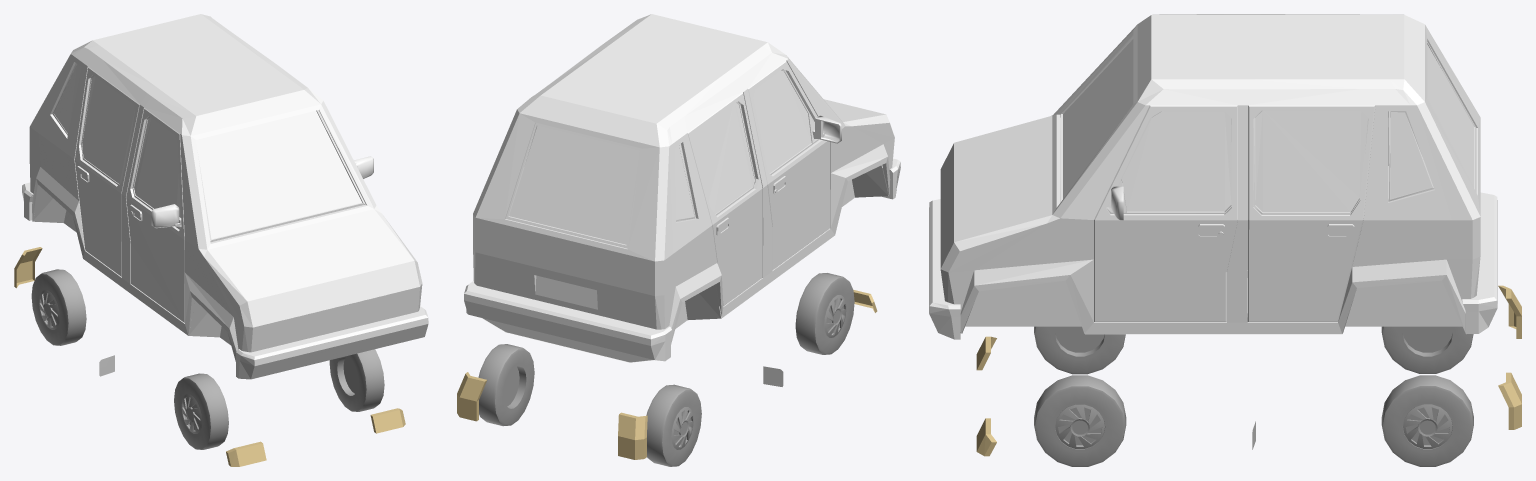
Rendered from car.glb.
3 renders of one model, left to right at view 1: azimuth 30°, elevation 25°; view 2: azimuth 150°, elevation 25°; view 3: azimuth 270°, elevation 25°, orthographic. The views are drawn at different scales.
Visible parts, largest first — view 1: CarChasis, CarWindows, CarInterior, CarWheels, CarLights; view 2: CarChasis, CarWindows, CarInterior, CarWheels, CarLights; view 3: CarChasis, CarWindows, CarWheels, CarInterior, CarLights.
Part boxes in pixels (bbox=[...]): CarChasis: bbox=[29, 14, 422, 361]; CarWindows: bbox=[54, 64, 361, 239]; CarInterior: bbox=[22, 63, 428, 379]; CarWheels: bbox=[31, 269, 384, 449]; CarLights: bbox=[14, 247, 405, 466]; CarChasis: bbox=[473, 14, 894, 362]; CarWindows: bbox=[509, 70, 811, 244]; CarInterior: bbox=[464, 69, 900, 362]; CarWheels: bbox=[478, 273, 854, 466]; CarLights: bbox=[457, 289, 877, 459]; CarChasis: bbox=[940, 14, 1480, 333]; CarWindows: bbox=[1063, 39, 1474, 212]; CarWheels: bbox=[1034, 326, 1473, 466]; CarInterior: bbox=[929, 36, 1497, 339]; CarLights: bbox=[976, 285, 1521, 456].
Size of the model in its own units: 1.54 by 2.02 by 2.94.
